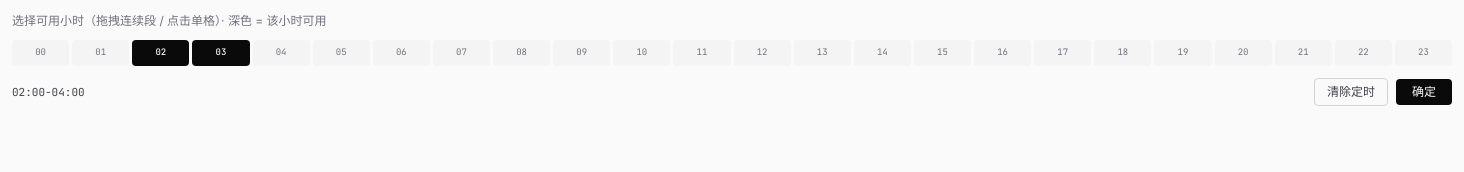
HourGridPicker — 渲染与草稿操作 › 多段加选：基线 [2,3] 再拖 10→12 → footer 显示两段
Step 1. Press the mouse on the cell "10" → (642, 53), box top-left (613, 40), bottom-right (670, 66)
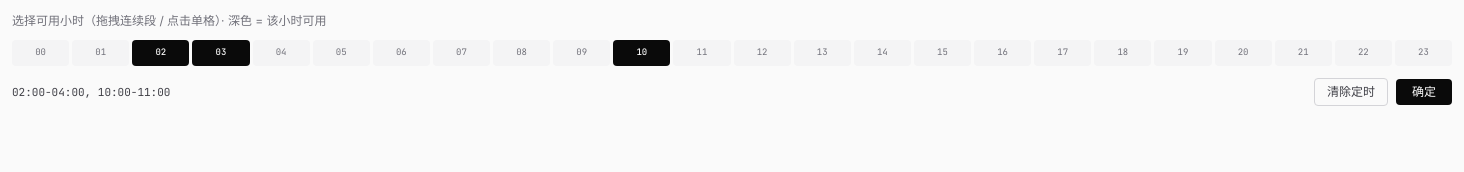
Step 2. Hover over the cell "12" → (762, 53), box top-left (734, 40), bottom-right (791, 66)
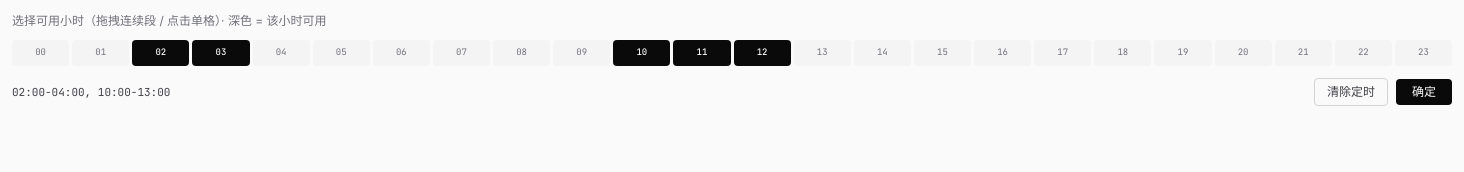
Now the text with test id "hour-grid-selected" reads "02:00-04:00, 10:00-13:00", box top-left (12, 85), bottom-right (170, 99)
